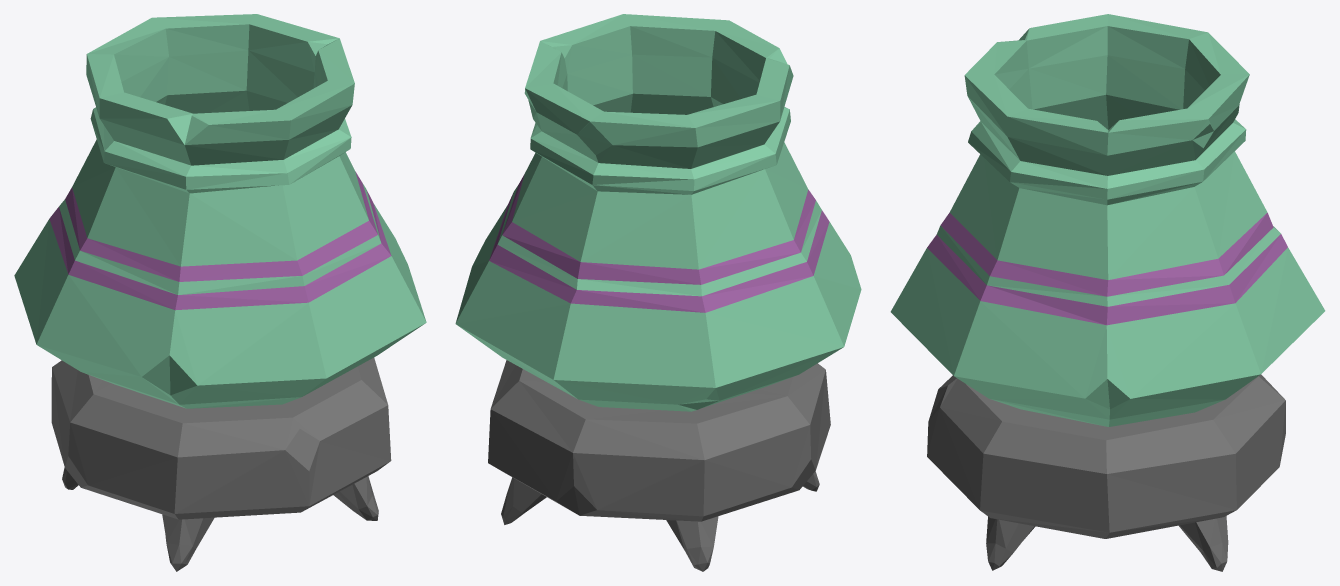
File: SFI_Vessel_016.fbx
The picture shows the model from 3 angles, left to right: view 1: azimuth 30°, elevation 25°; view 2: azimuth 150°, elevation 25°; view 3: azimuth 270°, elevation 25°; orthographic projection. The views are drawn at different scales.
Parts seen in each view (by area): view 1: SFI_Vessel_016; view 2: SFI_Vessel_016; view 3: SFI_Vessel_016.
Boxes of the visible parts, x1,y1,x2,y2 form: SFI_Vessel_016: [14, 14, 426, 571]; SFI_Vessel_016: [455, 14, 861, 571]; SFI_Vessel_016: [890, 14, 1325, 571].
Size of the model in its own units: 39.51 by 45.91 by 40.24.
